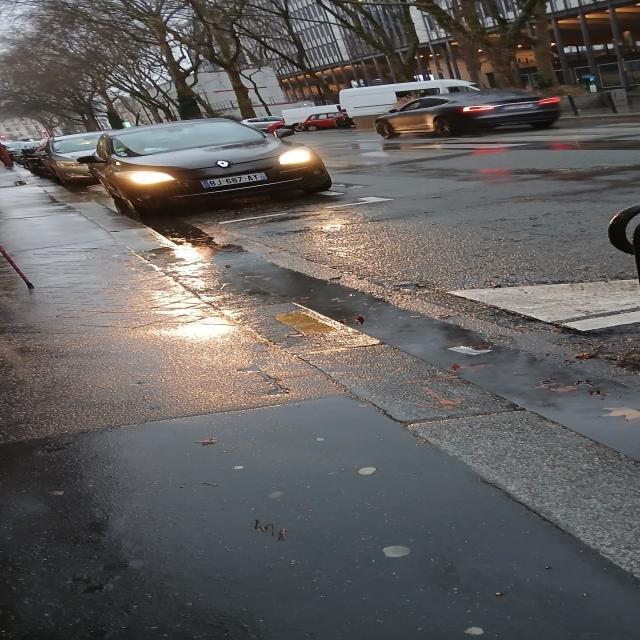Autre: (194, 166, 275, 191)
